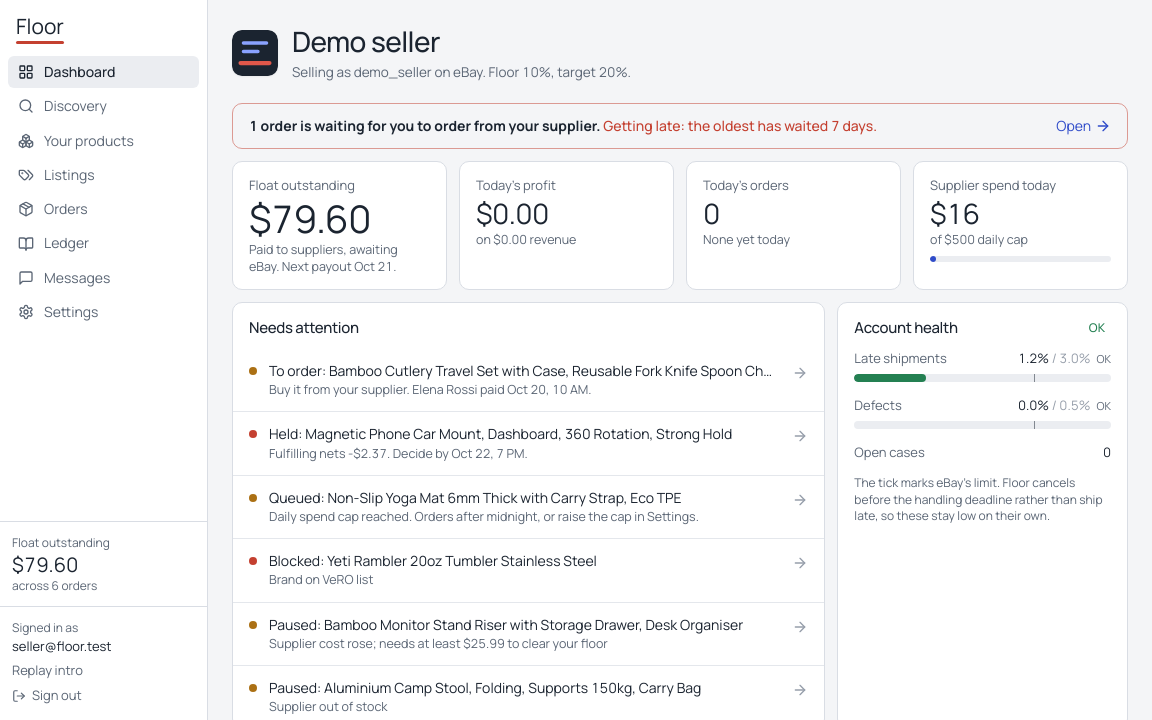
Test: login › signing out clears the token and returns to the sign-in page
Click the button "Sign out" at (47,696), box left=12, top=686, right=82, bottom=705
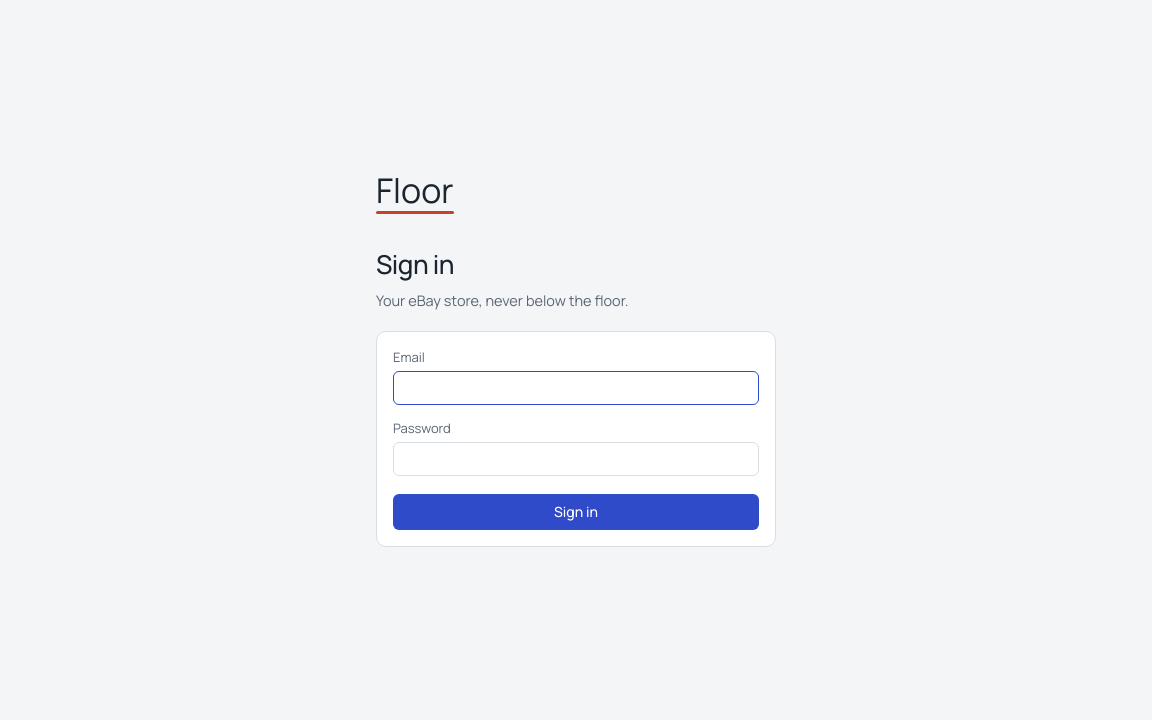
Now the heading "Sign in" is shown, box left=376, top=246, right=454, bottom=282
